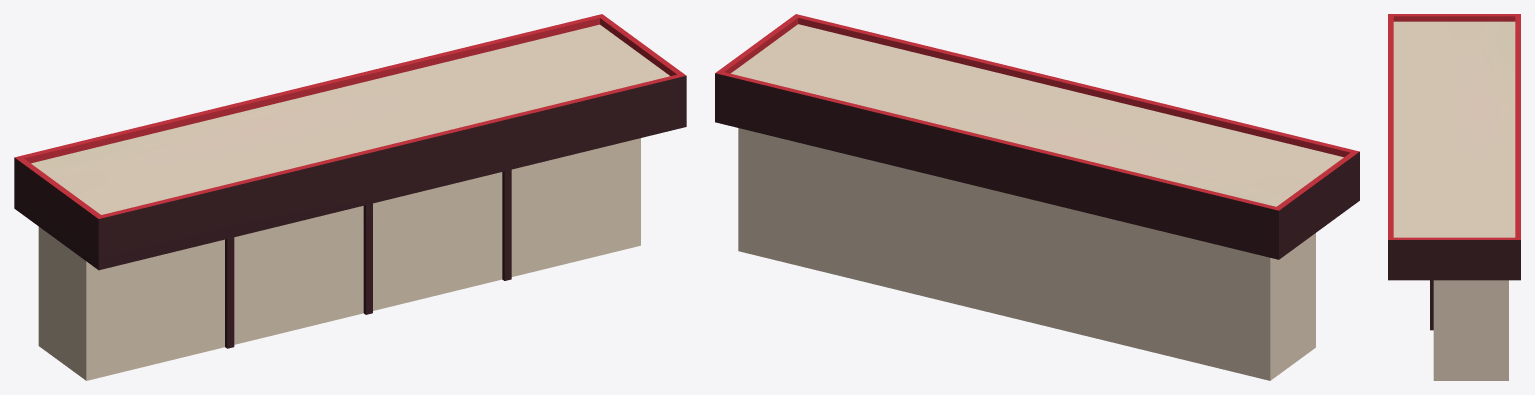
Rendered from postoffice_counter.fbx.
3 views of the same model, side by side, from view 1: azimuth 30°, elevation 25°; view 2: azimuth 150°, elevation 25°; view 3: azimuth 270°, elevation 25° (orthographic). The views are drawn at different scales.
Parts seen in each view (by area): view 1: polySurface899; view 2: polySurface899; view 3: polySurface899.
Boxes of the visible parts, left/top/right/bottom form: polySurface899: left=14, top=14, right=686, bottom=380; polySurface899: left=715, top=14, right=1359, bottom=380; polySurface899: left=1388, top=14, right=1520, bottom=380.
Size of the model in its own units: 18.1 by 5.5 by 4.5.
1 material, 1 textured.
